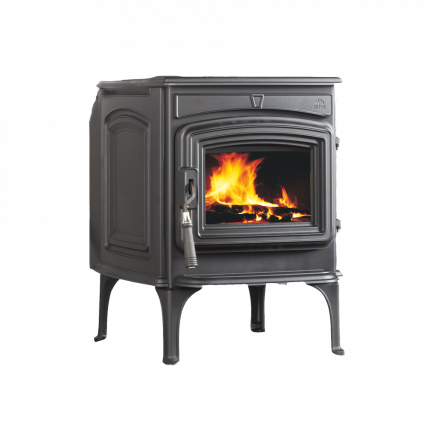stove: (75, 74, 355, 361)
